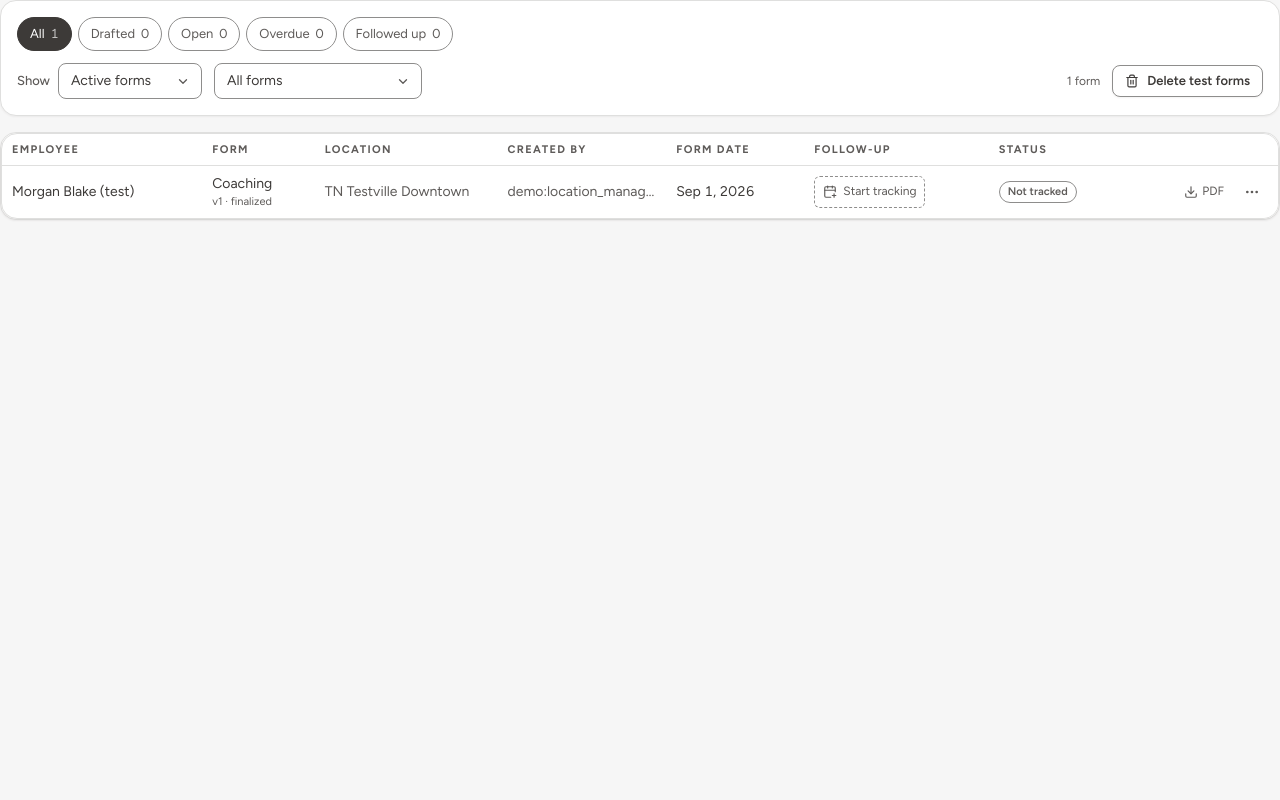
it: delete and archive still work as they did › still keys the bulk sweep on provenance and states the count
What coordinates should you click on to do the following:
click the button "Delete test forms"
I would click on:
 (1188, 80)
Its box is [1112, 64, 1263, 96].
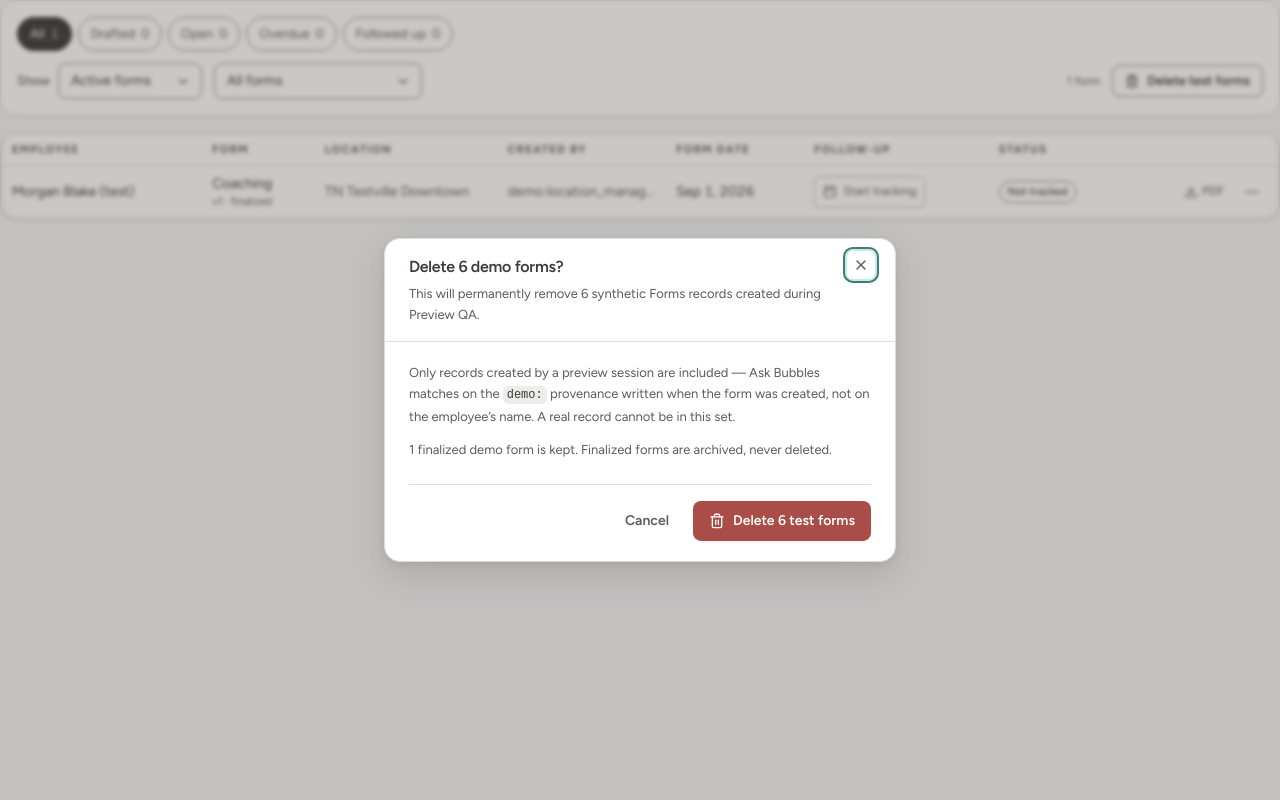
Result: the heading "Delete 6 demo forms?" is shown at [409, 257, 564, 276]
Result: the text "not on the employee" is shown at [409, 386, 870, 424]
